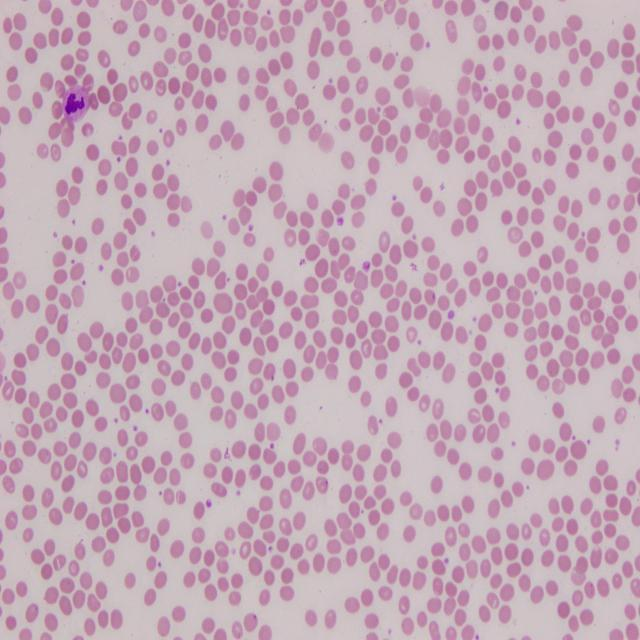cell: (62, 85, 90, 122)
